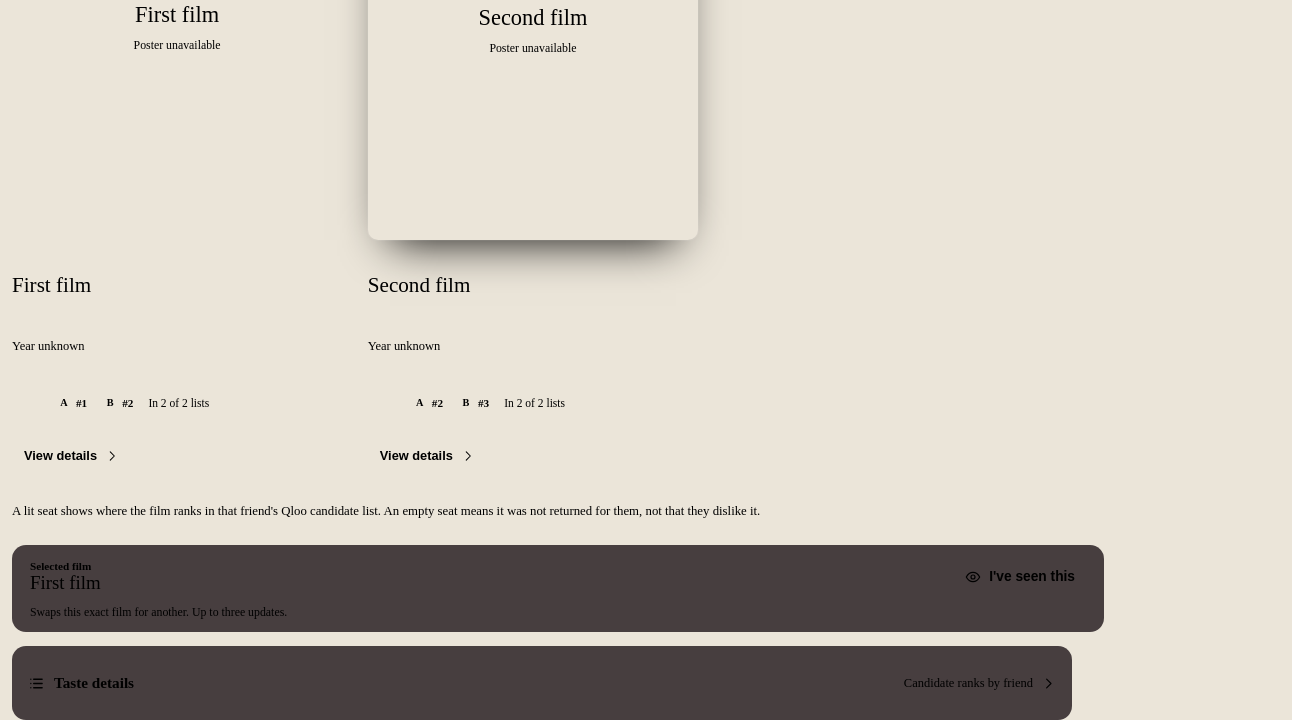
Test: poster workspace shows all candidates and details are revealed by explicit selection
(page scrolled)
Expected: the text "Second plot" is not shown
Click the button with aria-label "Explore Second film": (427,456) [368,439,487,473]
(page scrolled)
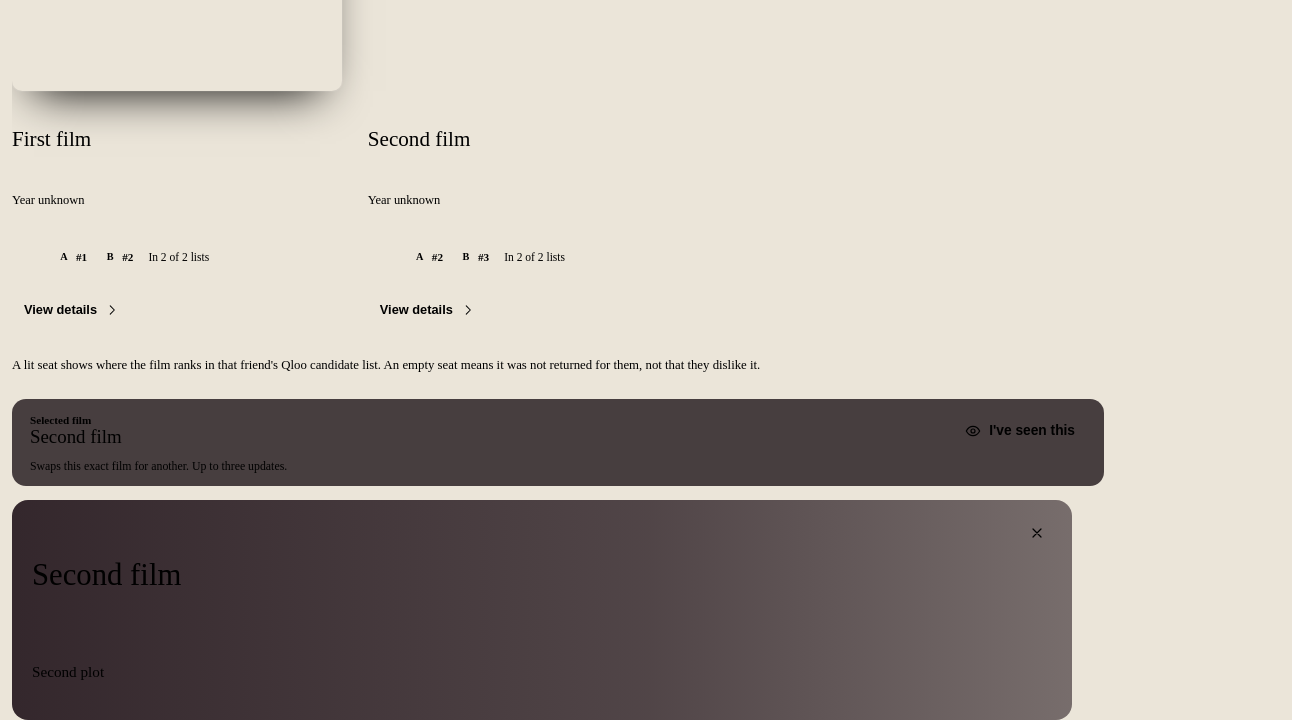
Now the text "Second plot" is shown, box [32,663,104,680]
